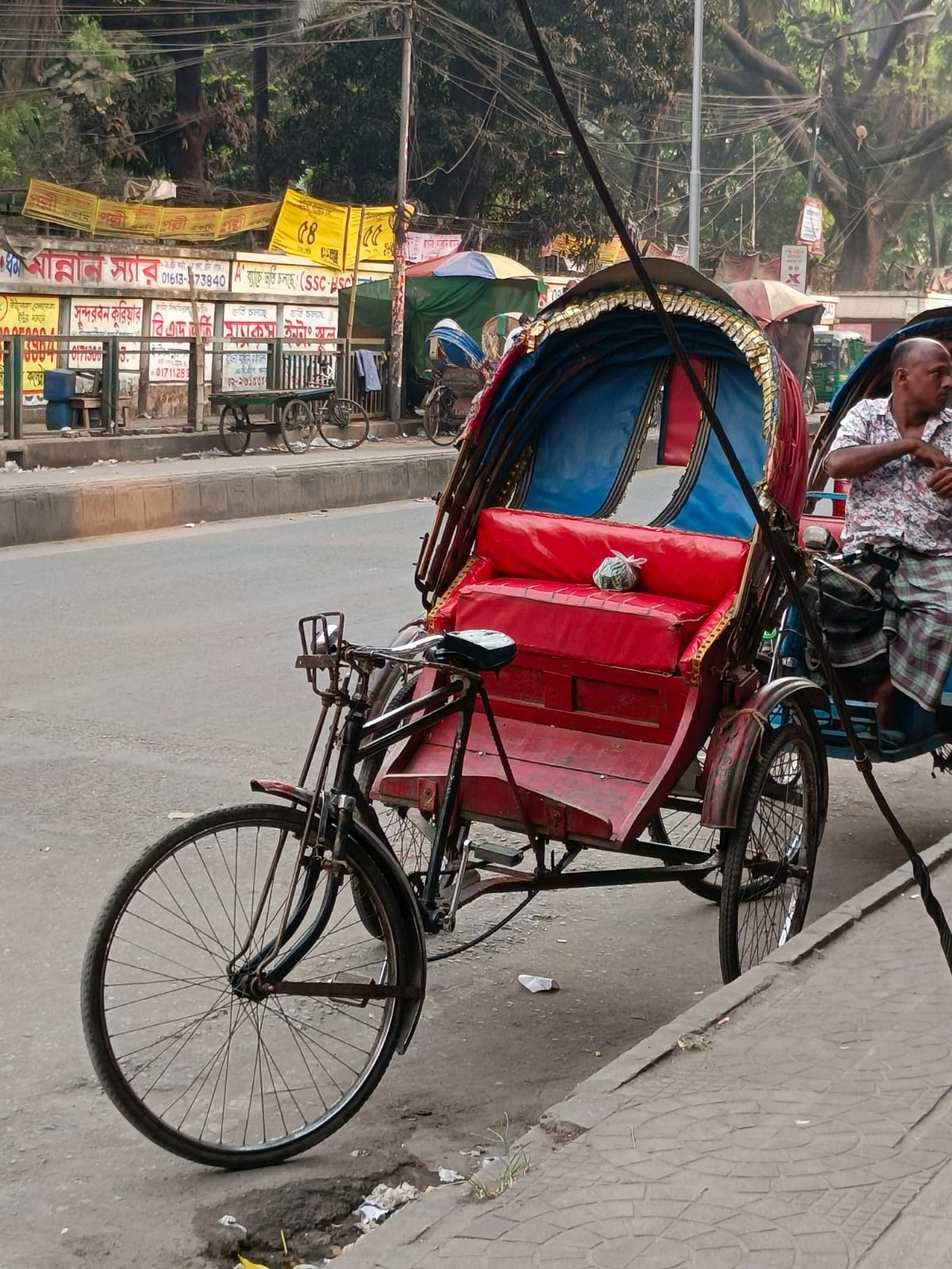auto-ricksaw: (95, 217, 825, 1269), (783, 260, 952, 857)
